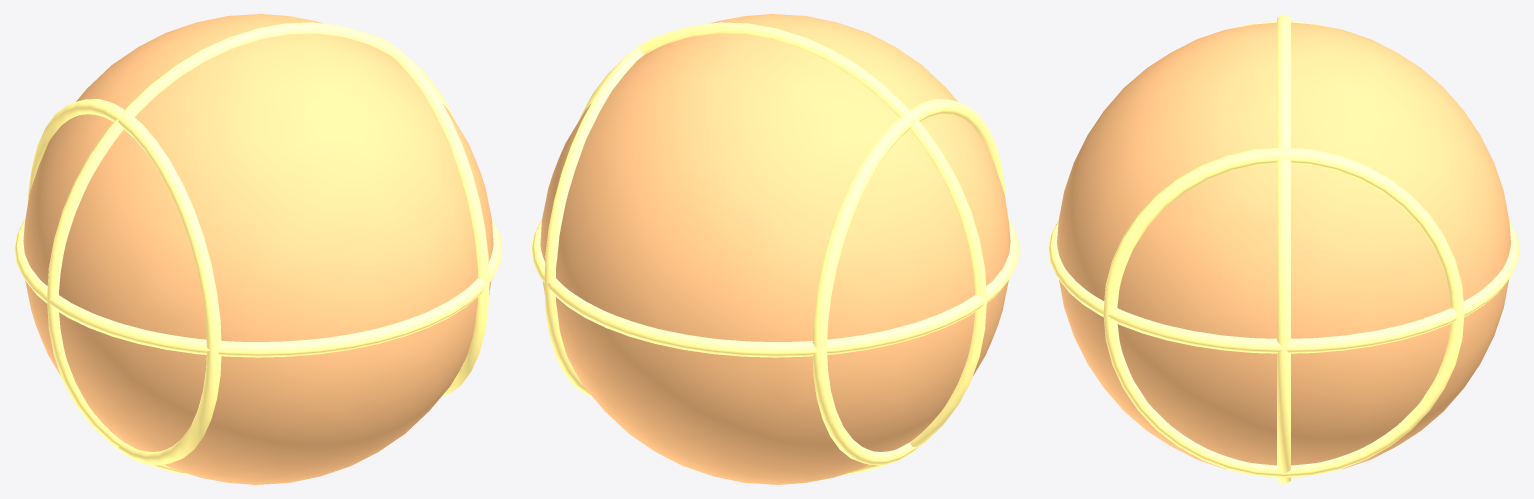
Rendered from Gravity-Orb-Exact-Mesh-v2.0.0.glb.
The picture shows the model from 3 angles, left to right: view 1: azimuth 30°, elevation 25°; view 2: azimuth 150°, elevation 25°; view 3: azimuth 270°, elevation 25°; orthographic projection. The views are drawn at different scales.
Parts seen in each view (by area): view 1: orbShell, grooveEquator, grooveCurveR, grooveMeridian, grooveCurveL; view 2: orbShell, grooveEquator, grooveCurveR, grooveMeridian, grooveCurveL; view 3: orbShell, grooveCurveL, grooveEquator, grooveMeridian.
Boxes of the visible parts, x1=… form: orbShell: x1=23, y1=14, x2=493, y2=484; grooveEquator: x1=14, y1=218, x2=502, y2=357; grooveCurveR: x1=28, y1=99, x2=221, y2=465; grooveMeridian: x1=47, y1=22, x2=454, y2=475; grooveCurveL: x1=370, y1=34, x2=489, y2=396; orbShell: x1=540, y1=14, x2=1010, y2=484; grooveEquator: x1=531, y1=218, x2=1019, y2=357; grooveCurveR: x1=812, y1=99, x2=1005, y2=465; grooveMeridian: x1=579, y1=22, x2=986, y2=475; grooveCurveL: x1=544, y1=34, x2=663, y2=396; orbShell: x1=1057, y1=22, x2=1510, y2=469; grooveCurveL: x1=1103, y1=147, x2=1464, y2=477; grooveEquator: x1=1048, y1=220, x2=1519, y2=353; grooveMeridian: x1=1277, y1=14, x2=1290, y2=484.
Bounding box in the file's own units: 0.746 × 0.746 × 0.746.
